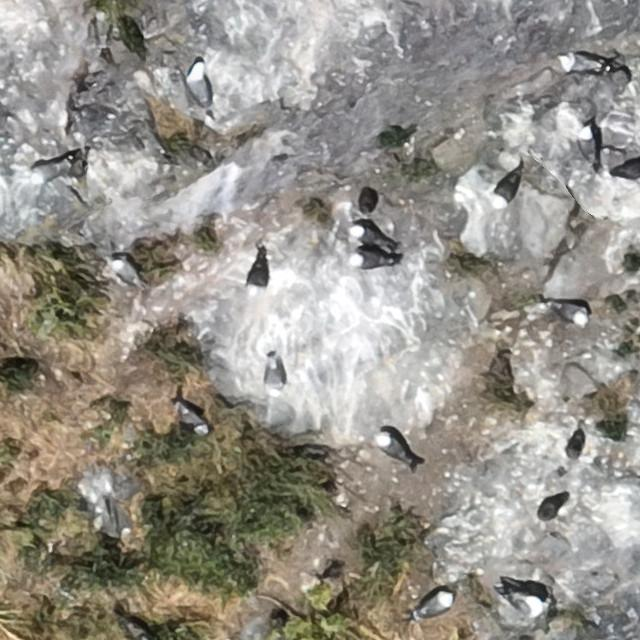umineko: (30, 155, 71, 185), (494, 174, 520, 206), (419, 592, 454, 614), (180, 405, 207, 432), (188, 70, 208, 106), (556, 302, 588, 324), (580, 126, 598, 164), (379, 434, 406, 459), (563, 56, 602, 72), (509, 592, 543, 610), (249, 260, 268, 292), (355, 226, 383, 247), (353, 252, 387, 269), (114, 260, 139, 283), (266, 360, 284, 390), (614, 160, 640, 180), (115, 506, 132, 535), (95, 13, 108, 45)
